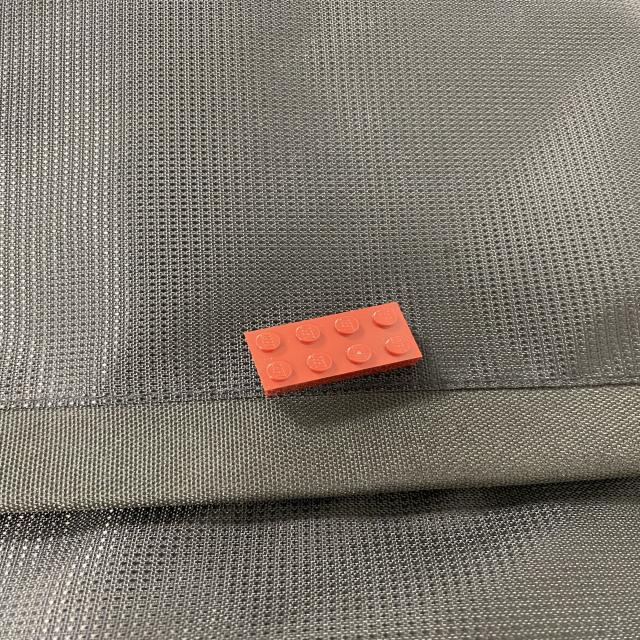C4x2x1: (233, 299, 432, 397)
